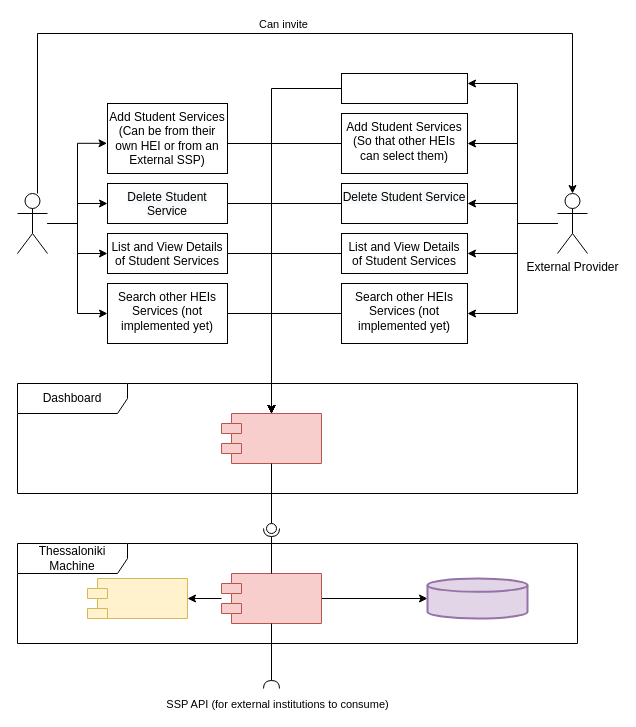
This 636x727 diagram has some shape labels left out. The shapes that lost their labels are listed below. From the top down, each one's centre as x and y in pixels, then its label:
At point 404,88: "Register".
At point 32,223: "HEI".
At point 271,438: "SSP Frontend".
At point 137,598: "Mail Service".
At point 271,598: "SSP Backend".
At point 477,598: "MongoDB".
